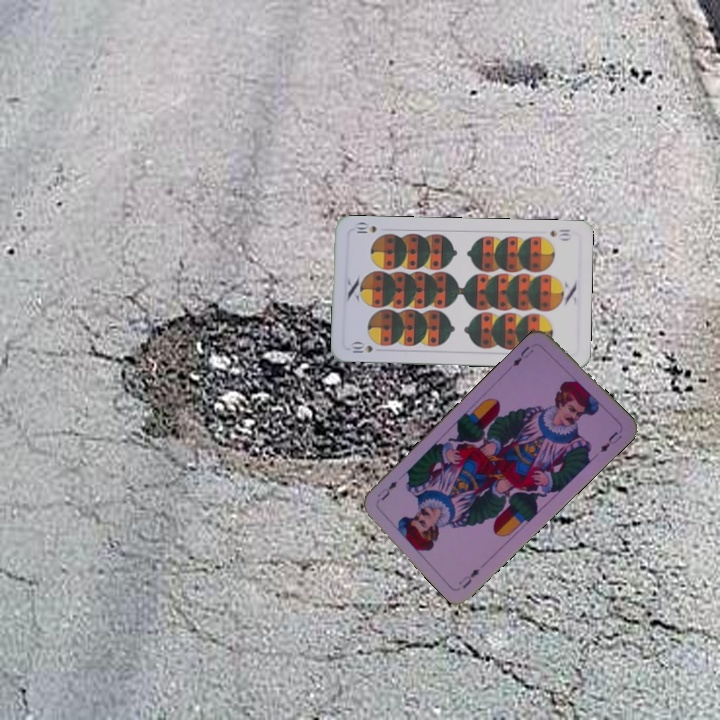EU: (454, 564, 482, 591), (509, 342, 536, 369)
S10: (546, 225, 573, 243), (347, 339, 375, 355)
